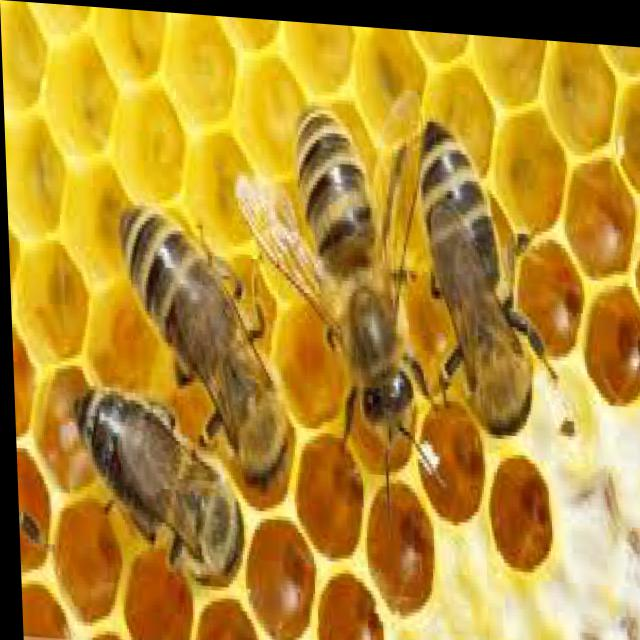Abeille: (247, 86, 426, 456), (114, 174, 289, 498), (62, 347, 247, 638), (403, 118, 574, 428)
